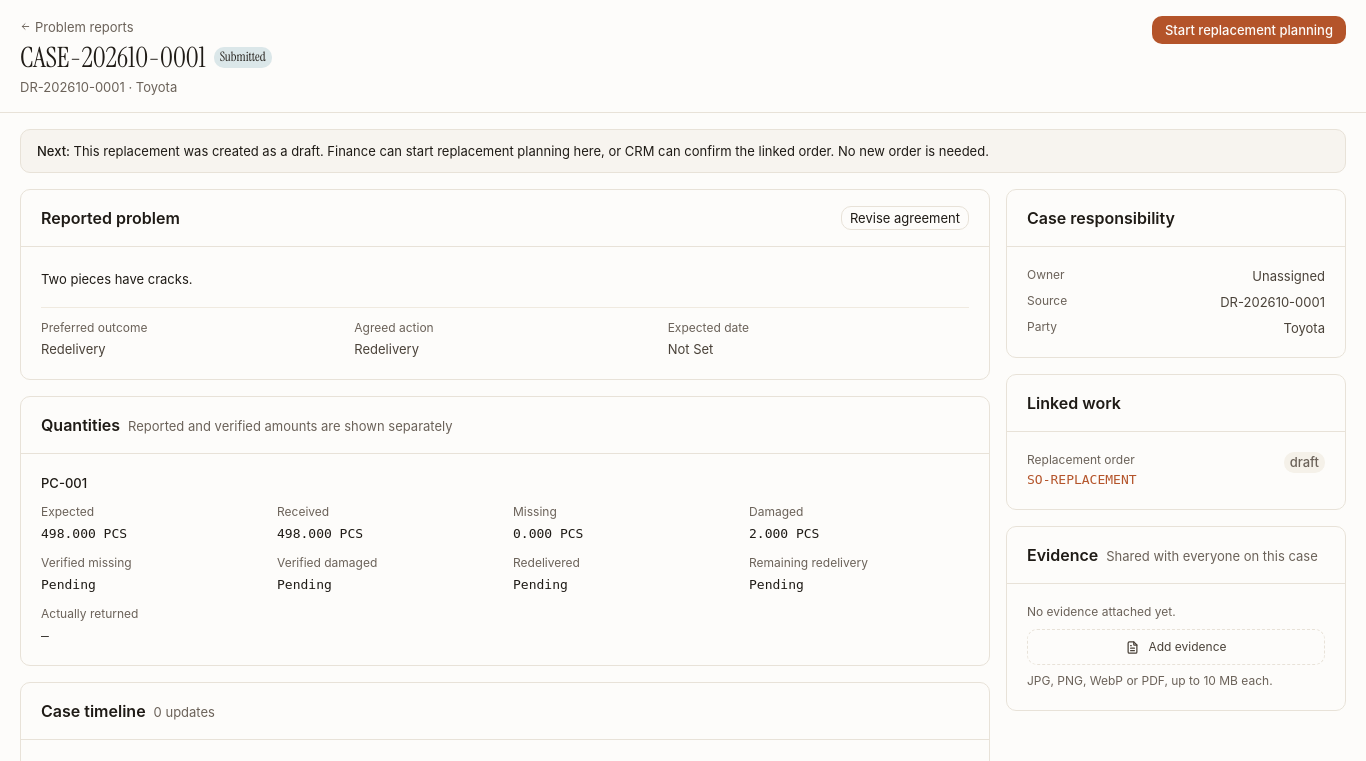
Test: offers one planning action for an existing approved draft replacement
The width and height of the screenshot is (1366, 761).
Expected: the heading "CASE-202610-0001 Submitted" is shown, [20, 40, 272, 76]
Click the button "Start replacement planning" at coordinates (1249, 30), box [1152, 16, 1346, 44]
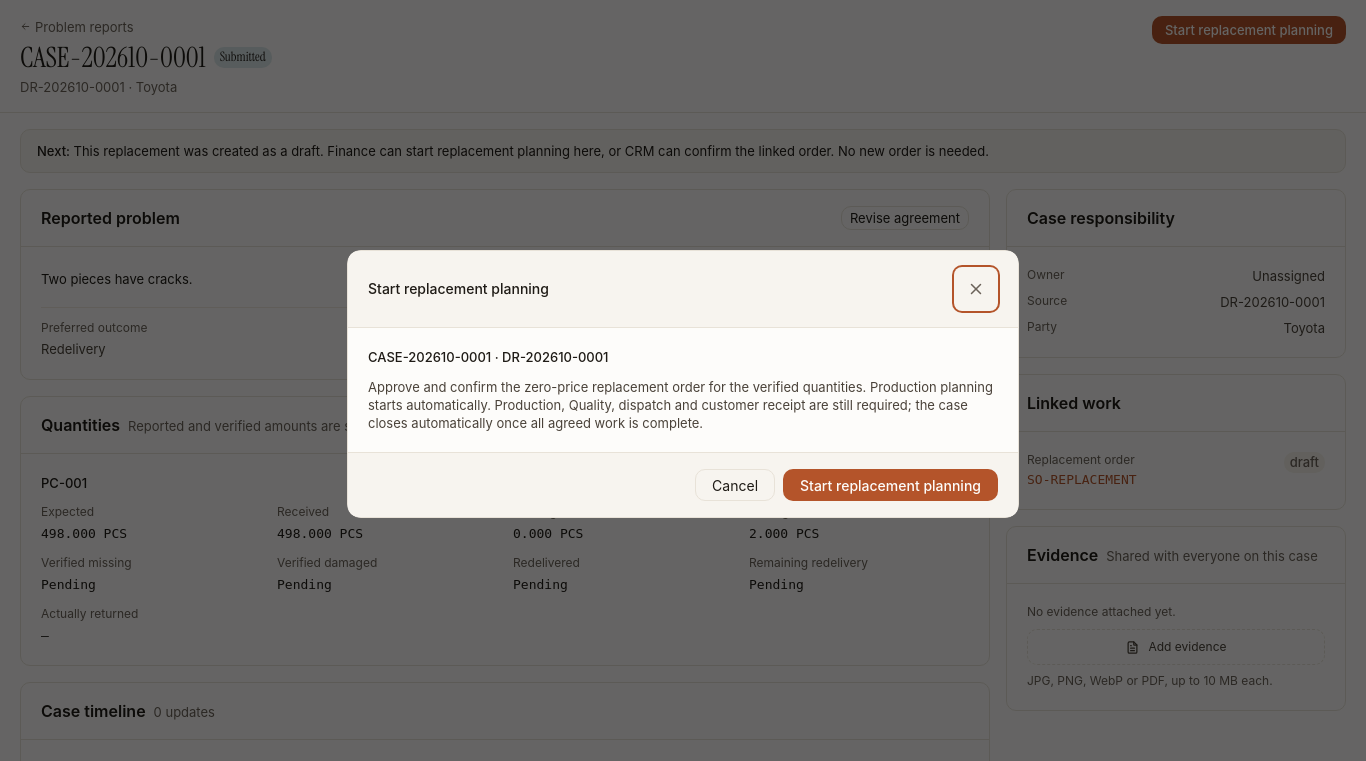
Now the button "Start replacement planning" is enabled, box [783, 469, 998, 501]
